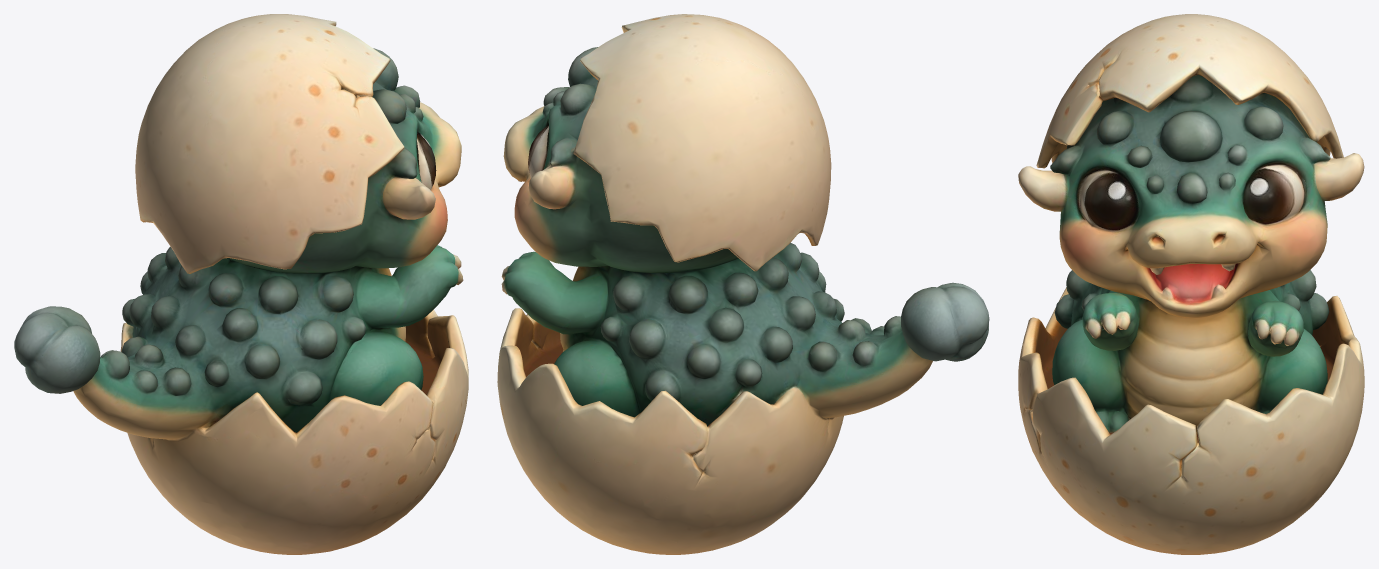
The model's file is baby_7.glb.
The picture shows the model from 3 angles, left to right: view 1: azimuth 30°, elevation 25°; view 2: azimuth 150°, elevation 25°; view 3: azimuth 270°, elevation 25°; orthographic projection. The views are drawn at different scales.
Visible parts, largest first — view 1: tripo_node_e3f48dcd-cc26-401c-995e-46e5f5c2450d; view 2: tripo_node_e3f48dcd-cc26-401c-995e-46e5f5c2450d; view 3: tripo_node_e3f48dcd-cc26-401c-995e-46e5f5c2450d.
Part boxes in pixels (left/top/right/bottom): tripo_node_e3f48dcd-cc26-401c-995e-46e5f5c2450d: left=14, top=14, right=468, bottom=554; tripo_node_e3f48dcd-cc26-401c-995e-46e5f5c2450d: left=497, top=14, right=989, bottom=554; tripo_node_e3f48dcd-cc26-401c-995e-46e5f5c2450d: left=1018, top=14, right=1364, bottom=554.
Bounding box in the file's own units: 0.9188 × 1 × 0.6271.
Materials: 1 (1 with a texture image).
